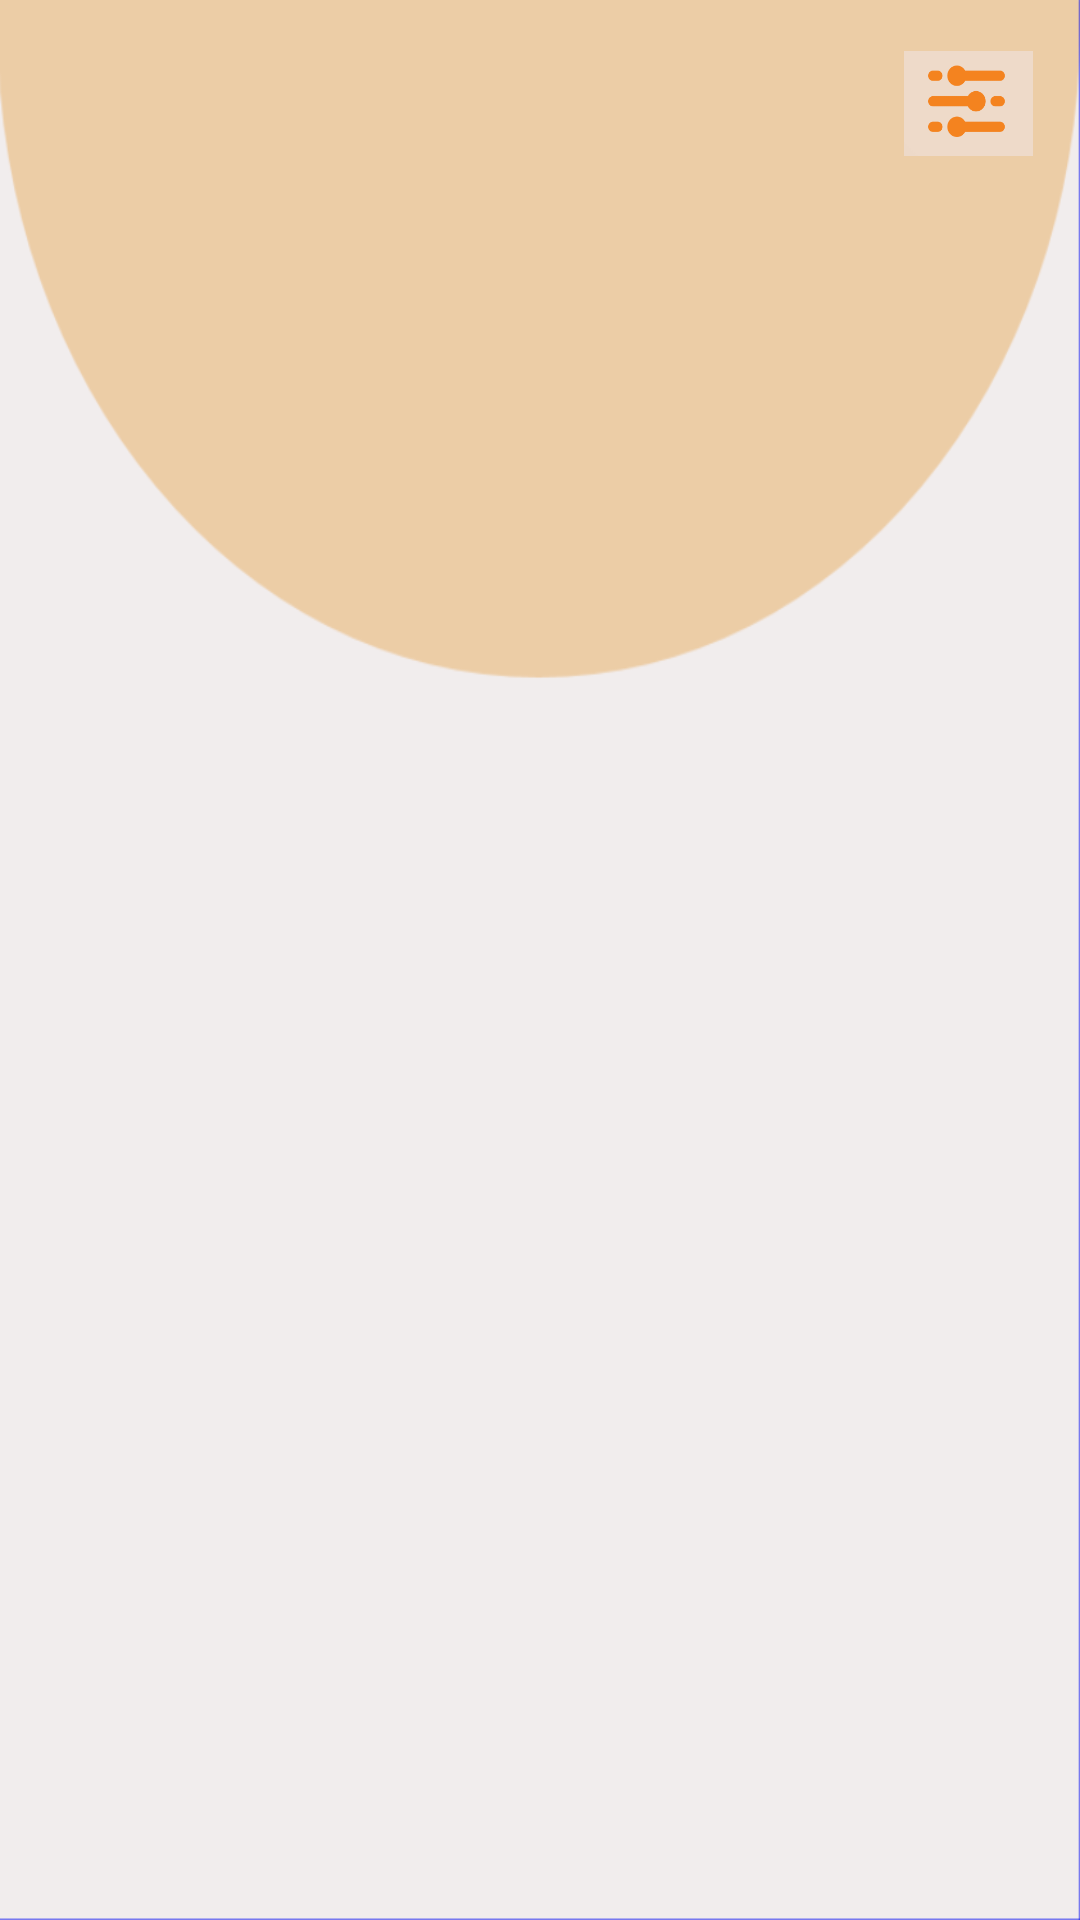

Where icons sit on this 1080px×1920px app screen, as (x1, y1, x2, y2):
settings: (904, 51, 1033, 156)
